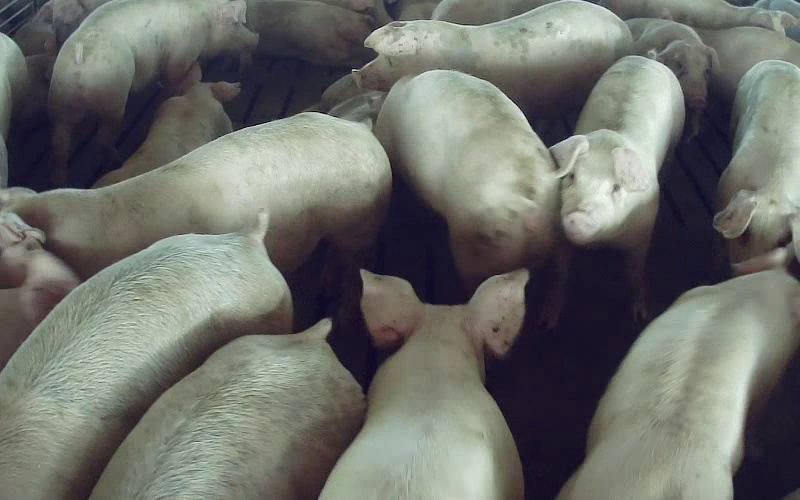pig: (0, 214, 290, 497), (9, 112, 391, 277), (560, 248, 799, 499), (91, 319, 365, 499), (322, 270, 526, 499), (375, 70, 559, 283), (544, 56, 684, 326), (356, 0, 632, 116), (93, 64, 239, 186), (714, 60, 799, 262), (626, 18, 717, 138)
